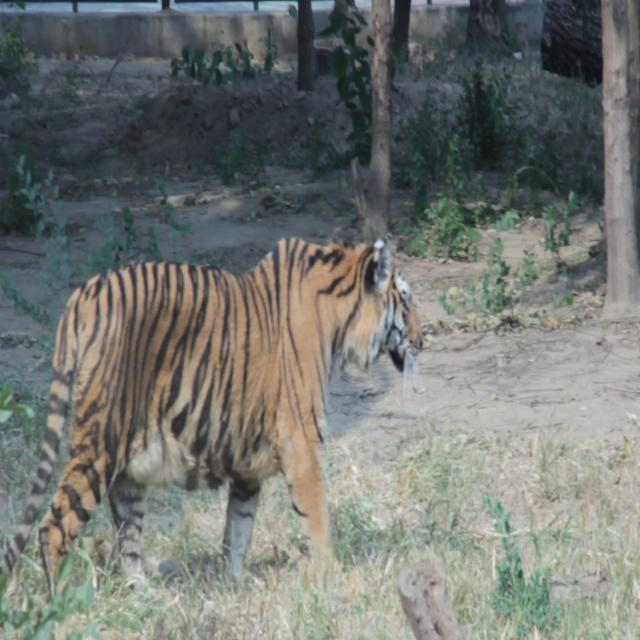Tiger: (8, 173, 450, 610)
